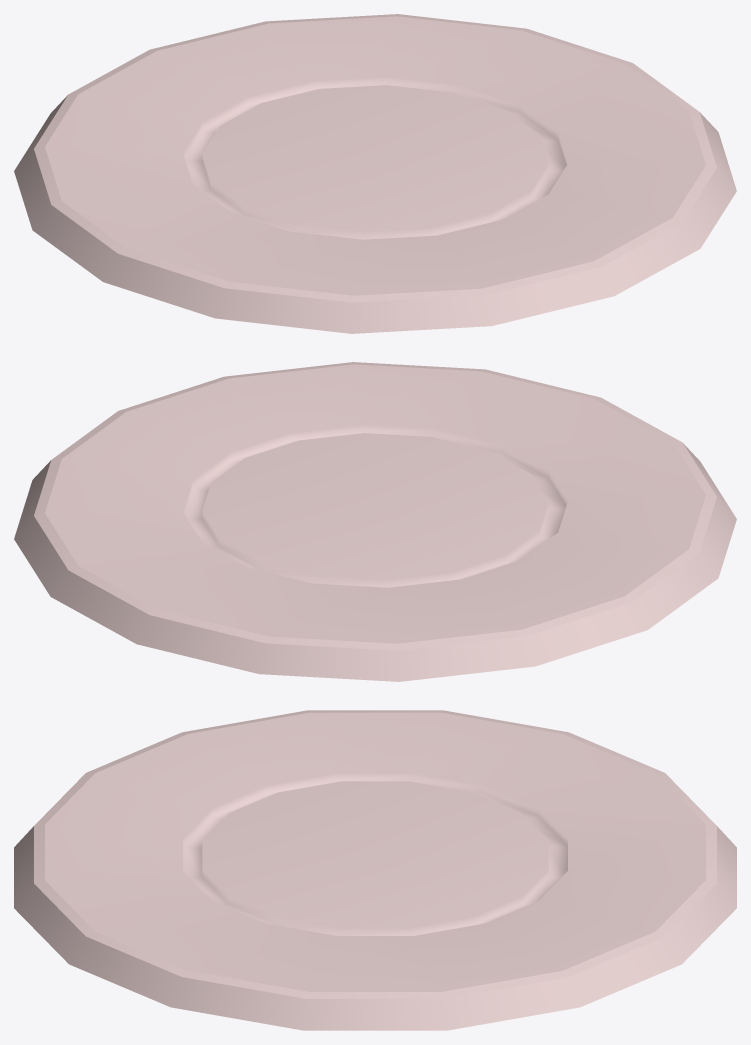
The model's file is SK_JumpPadCenter_v1.fbx.
3 renders of one model, top to bottom at view 1: azimuth 30°, elevation 25°; view 2: azimuth 150°, elevation 25°; view 3: azimuth 270°, elevation 25°, orthographic.
Visible parts, largest first — view 1: SK_JumpPadCenter_v1; view 2: SK_JumpPadCenter_v1; view 3: SK_JumpPadCenter_v1.
Part boxes in pixels (x1=…): SK_JumpPadCenter_v1: x1=14, y1=14, x2=736, y2=333; SK_JumpPadCenter_v1: x1=14, y1=362, x2=736, y2=681; SK_JumpPadCenter_v1: x1=14, y1=710, x2=736, y2=1030.
Size of the model in its own units: 2.05 by 0.0798 by 2.05.
